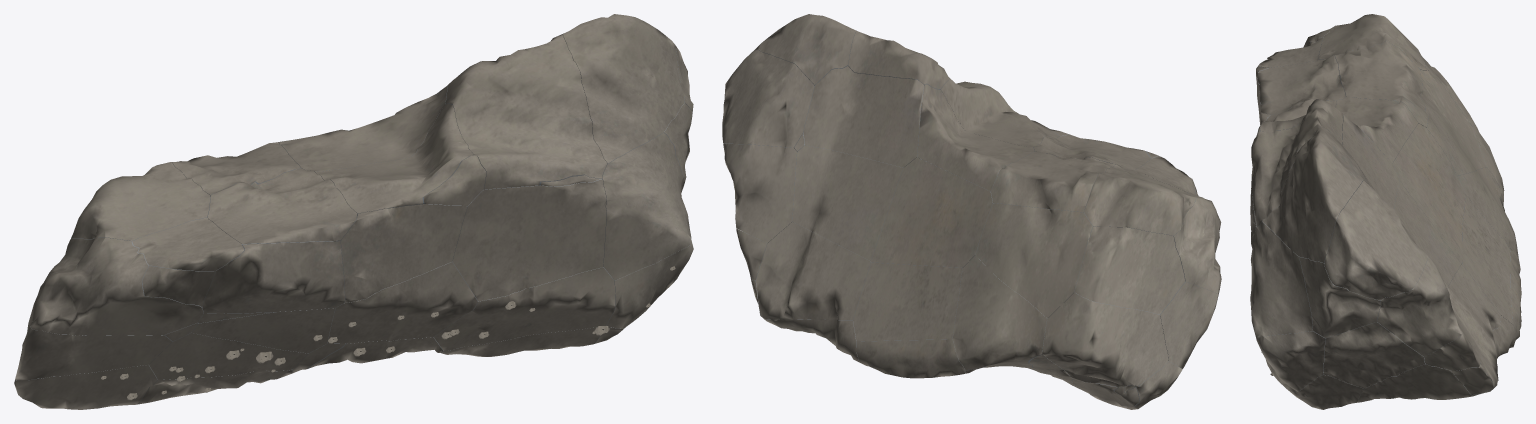
The model's file is collapse-study.glb.
3 renders of one model, left to right at view 1: azimuth 30°, elevation 25°; view 2: azimuth 150°, elevation 25°; view 3: azimuth 270°, elevation 25°, orthographic. The views are drawn at different scales.
Parts seen in each view (by area): view 1: 体积岩块_53, 体积岩块_33, 体积岩块_54, 体积岩块_35, 体积岩块_34, 体积岩块_31, 体积岩块_32, 体积岩块_51, 体积岩块_18, 体积岩块_17, 体积岩块_55, 体积岩块_52 (+14 smaller); view 2: 体积岩块_42, 体积岩块_58, 体积岩块_41, 体积岩块_25, 体积岩块_43, 体积岩块_28, 体积岩块_27, 体积岩块_40, 体积岩块_26, 体积岩块_59, 体积岩块_44, 体积岩块_57 (+14 smaller); view 3: 体积岩块_59, 体积岩块_54, 体积岩块_34, 体积岩块_42, 体积岩块_44, 体积岩块_53, 体积岩块_24, 体积岩块_56, 体积岩块_27, 体积岩块_39, 体积岩块_51, 体积岩块_41 (+17 smaller).
Part boxes in pixels (bbox=[...]): 体积岩块_53: bbox=[445, 35, 606, 189]; 体积岩块_33: bbox=[452, 179, 606, 301]; 体积岩块_54: bbox=[558, 14, 684, 163]; 体积岩块_35: bbox=[30, 237, 203, 335]; 体积岩块_34: bbox=[602, 132, 690, 280]; 体积岩块_31: bbox=[202, 241, 344, 313]; 体积岩块_32: bbox=[334, 204, 467, 302]; 体积岩块_51: bbox=[207, 168, 357, 243]; 体积岩块_18: bbox=[434, 267, 615, 350]; 体积岩块_17: bbox=[327, 262, 477, 343]; 体积岩块_55: bbox=[71, 162, 210, 241]; 体积岩块_52: bbox=[314, 103, 474, 213]; 体积岩块_42: bbox=[871, 157, 993, 267]; 体积岩块_58: bbox=[803, 66, 924, 167]; 体积岩块_41: bbox=[975, 203, 1093, 318]; 体积岩块_25: bbox=[1042, 292, 1168, 387]; 体积岩块_43: bbox=[792, 145, 903, 260]; 体积岩块_28: bbox=[756, 222, 870, 320]; 体积岩块_27: bbox=[853, 262, 962, 341]; 体积岩块_40: bbox=[1074, 226, 1185, 314]; 体积岩块_26: bbox=[952, 255, 1047, 370]; 体积岩块_59: bbox=[722, 49, 814, 147]; 体积岩块_44: bbox=[723, 144, 797, 243]; 体积岩块_57: bbox=[917, 84, 1034, 191]; 体积岩块_59: bbox=[1324, 180, 1428, 300]; 体积岩块_54: bbox=[1262, 127, 1368, 262]; 体积岩块_34: bbox=[1250, 221, 1312, 336]; 体积岩块_42: bbox=[1392, 123, 1465, 263]; 体积岩块_44: bbox=[1377, 256, 1462, 356]; 体积岩块_53: bbox=[1251, 99, 1343, 226]; 体积岩块_24: bbox=[1323, 322, 1424, 388]; 体积岩块_56: bbox=[1334, 41, 1428, 127]; 体积岩块_27: bbox=[1462, 195, 1513, 324]; 体积岩块_39: bbox=[1299, 256, 1380, 338]; 体积岩块_51: bbox=[1257, 55, 1345, 114]; 体积岩块_41: bbox=[1420, 70, 1486, 175].
Size of what is drawn, in the model's own units: 28 by 14 by 12.02.
Materials: 3 (2 with a texture image).
